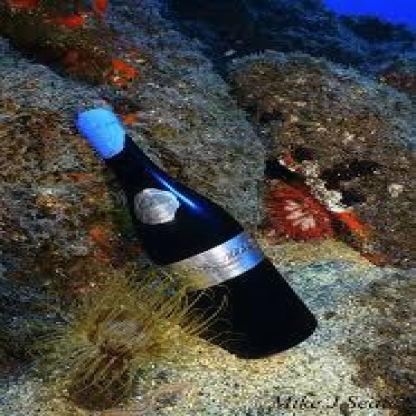gbottle: (74, 106, 322, 362)
